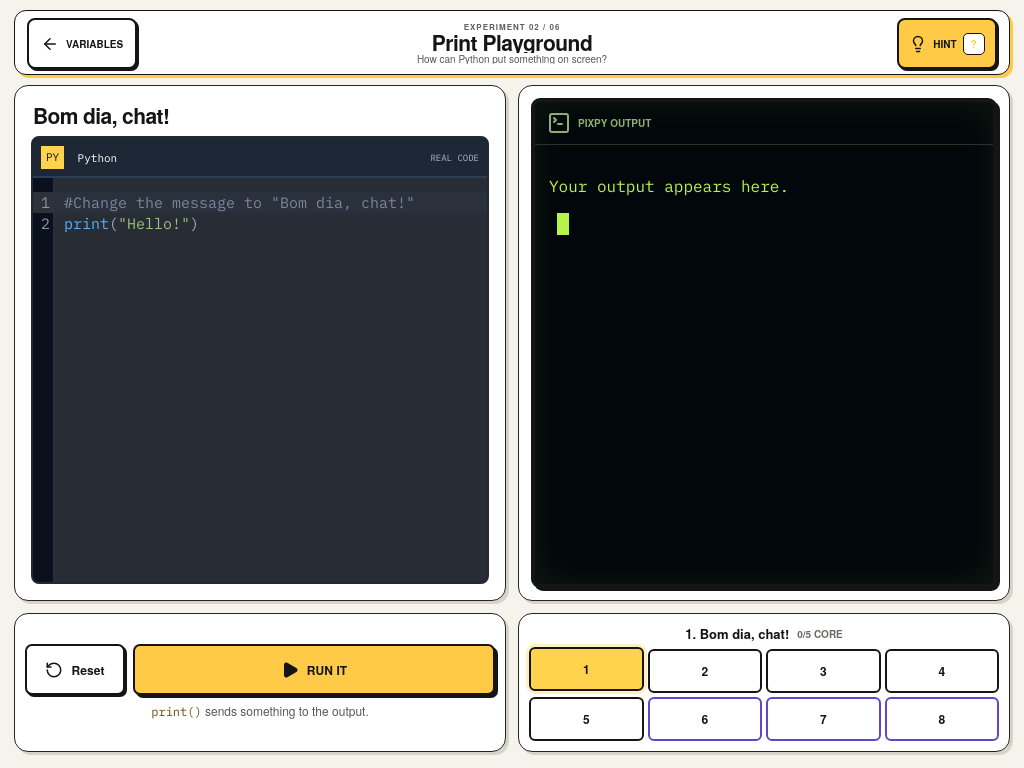
it: Print Playground screen › labels and classes optional activities as purple extras
This screenshot has width=1024, height=768.
Click the button named "6. Player ID card — EXTRA" at coordinates (705, 719), box [648, 697, 762, 741]
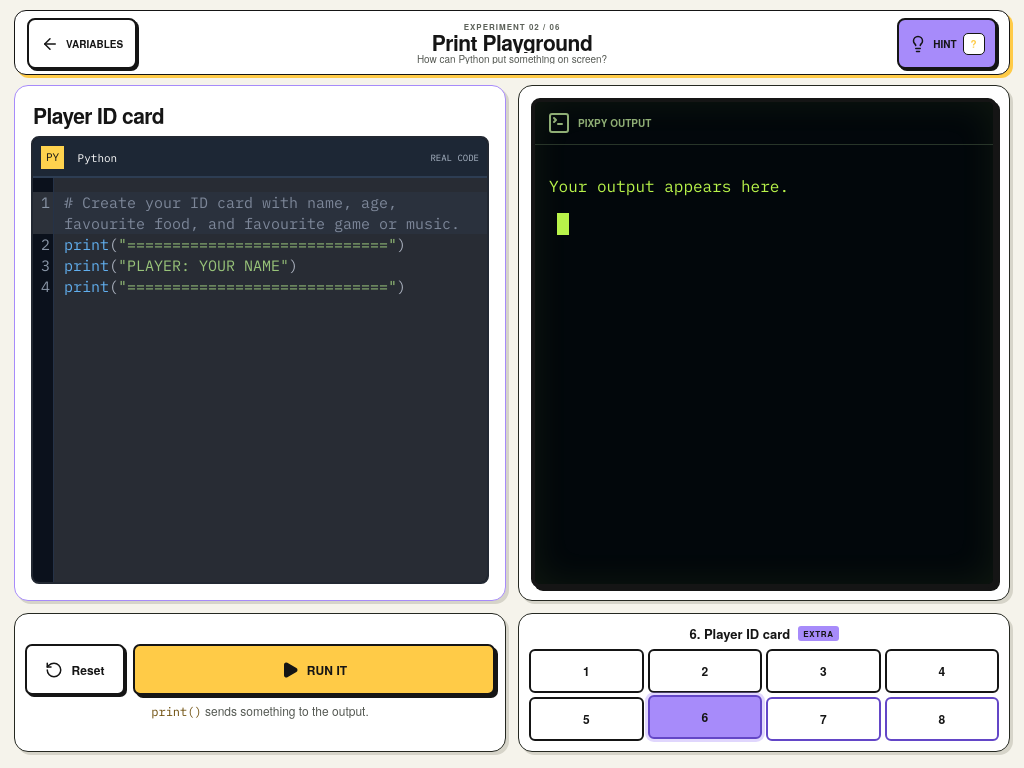
Expected: the 1st element with class "is-extra" is shown, [14, 85, 506, 601]
Result: the text "EXTRA" is shown at [798, 626, 838, 641]
Result: the element that starts with "Variables" is shown
